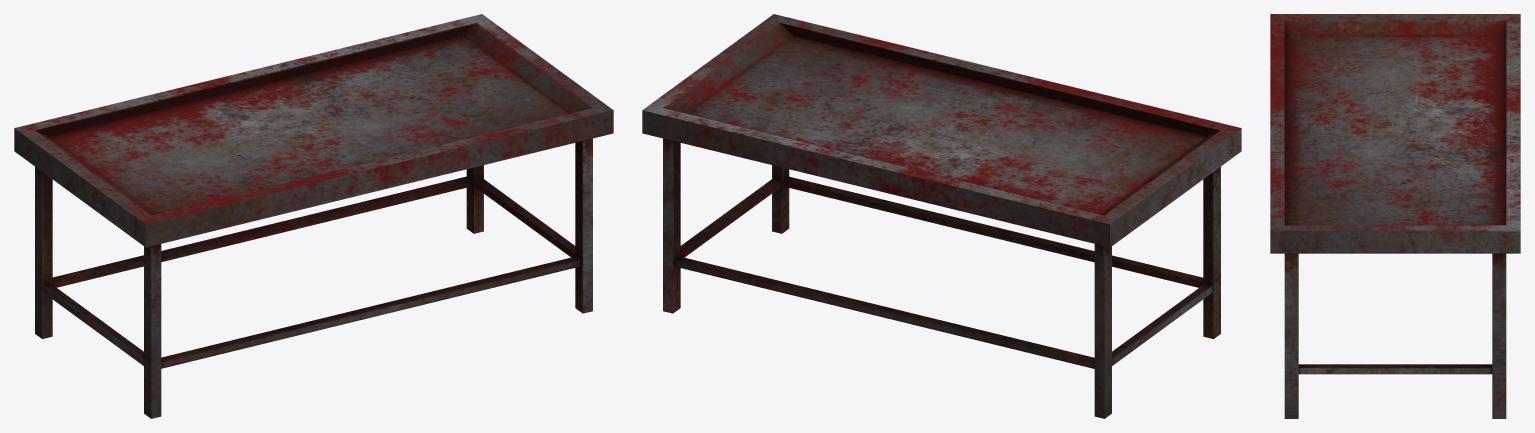
The model's file is SlaughterTable.FBX.
The picture shows the model from 3 angles, left to right: view 1: azimuth 30°, elevation 25°; view 2: azimuth 150°, elevation 25°; view 3: azimuth 270°, elevation 25°; orthographic projection. The views are drawn at different scales.
Parts seen in each view (by area): view 1: SlaughterTable; view 2: SlaughterTable; view 3: SlaughterTable.
Boxes of the visible parts, x1=… form: SlaughterTable: x1=14, y1=14, x2=613, y2=418; SlaughterTable: x1=642, y1=14, x2=1241, y2=418; SlaughterTable: x1=1270, y1=14, x2=1520, y2=418.
Size of the model in its own units: 203 by 84.37 by 98.91.
